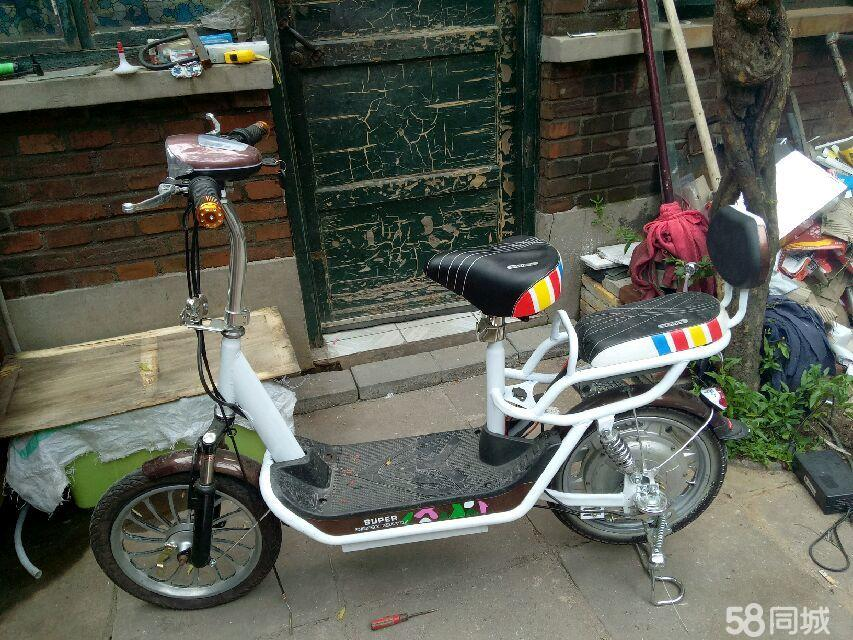电动车: (99, 104, 771, 611)
